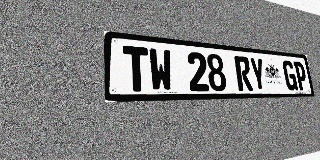2: (187, 51, 209, 91)
8: (206, 53, 227, 91)
G: (282, 60, 298, 90)
P: (293, 61, 309, 90)
R: (234, 56, 253, 91)
T: (123, 45, 150, 92)
W: (148, 48, 174, 91)
Y: (249, 57, 267, 91)
